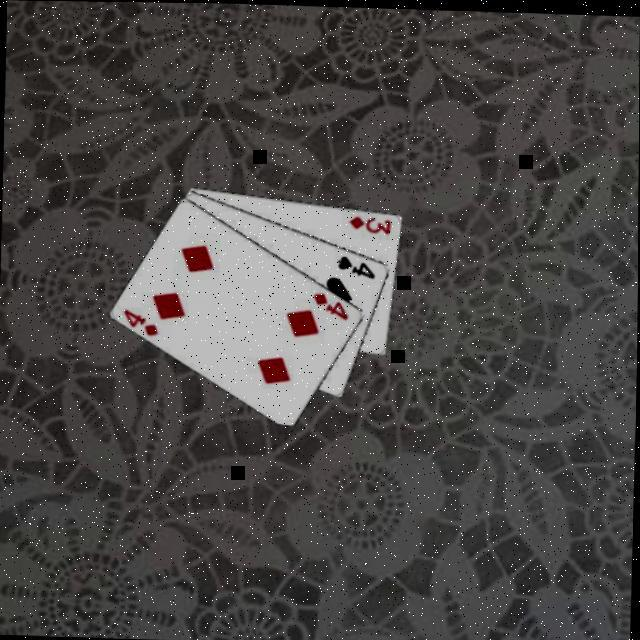3D: (344, 209, 392, 234)
4D: (118, 303, 160, 336), (309, 286, 350, 318)
4S: (333, 248, 376, 278)
